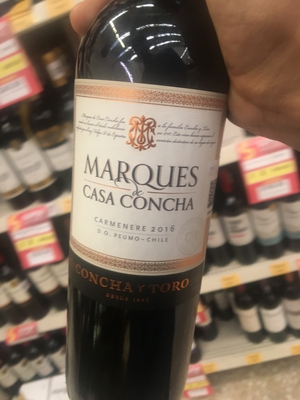marques de casa concha carmenere: (55, 14, 255, 384)
